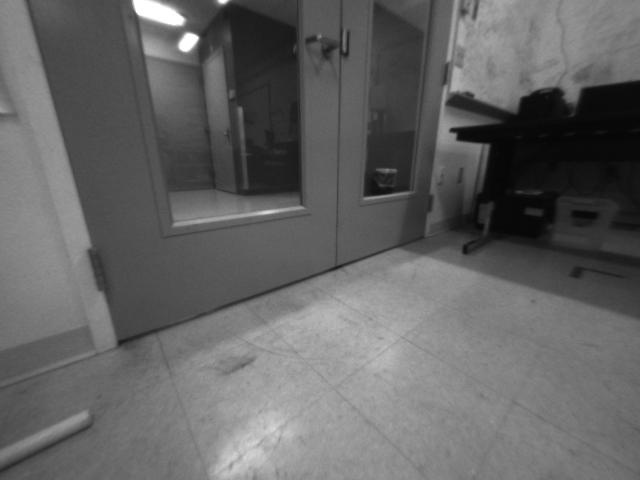door_handle: (300, 28, 339, 60)
